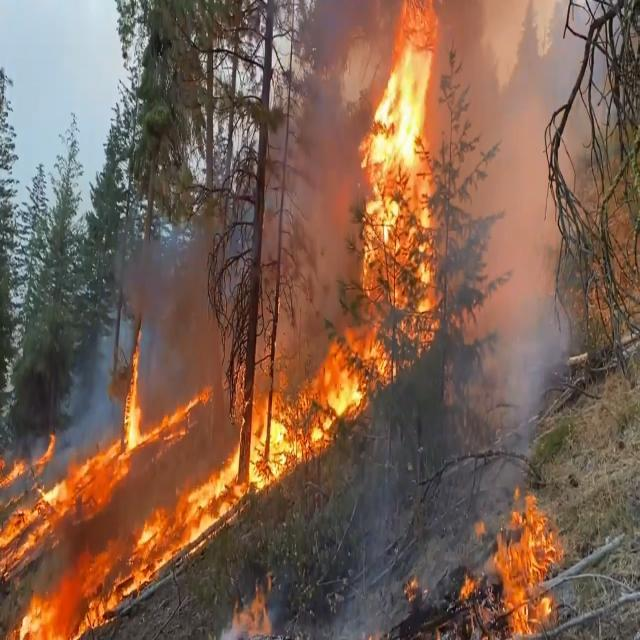Fire: (4, 8, 558, 640)
